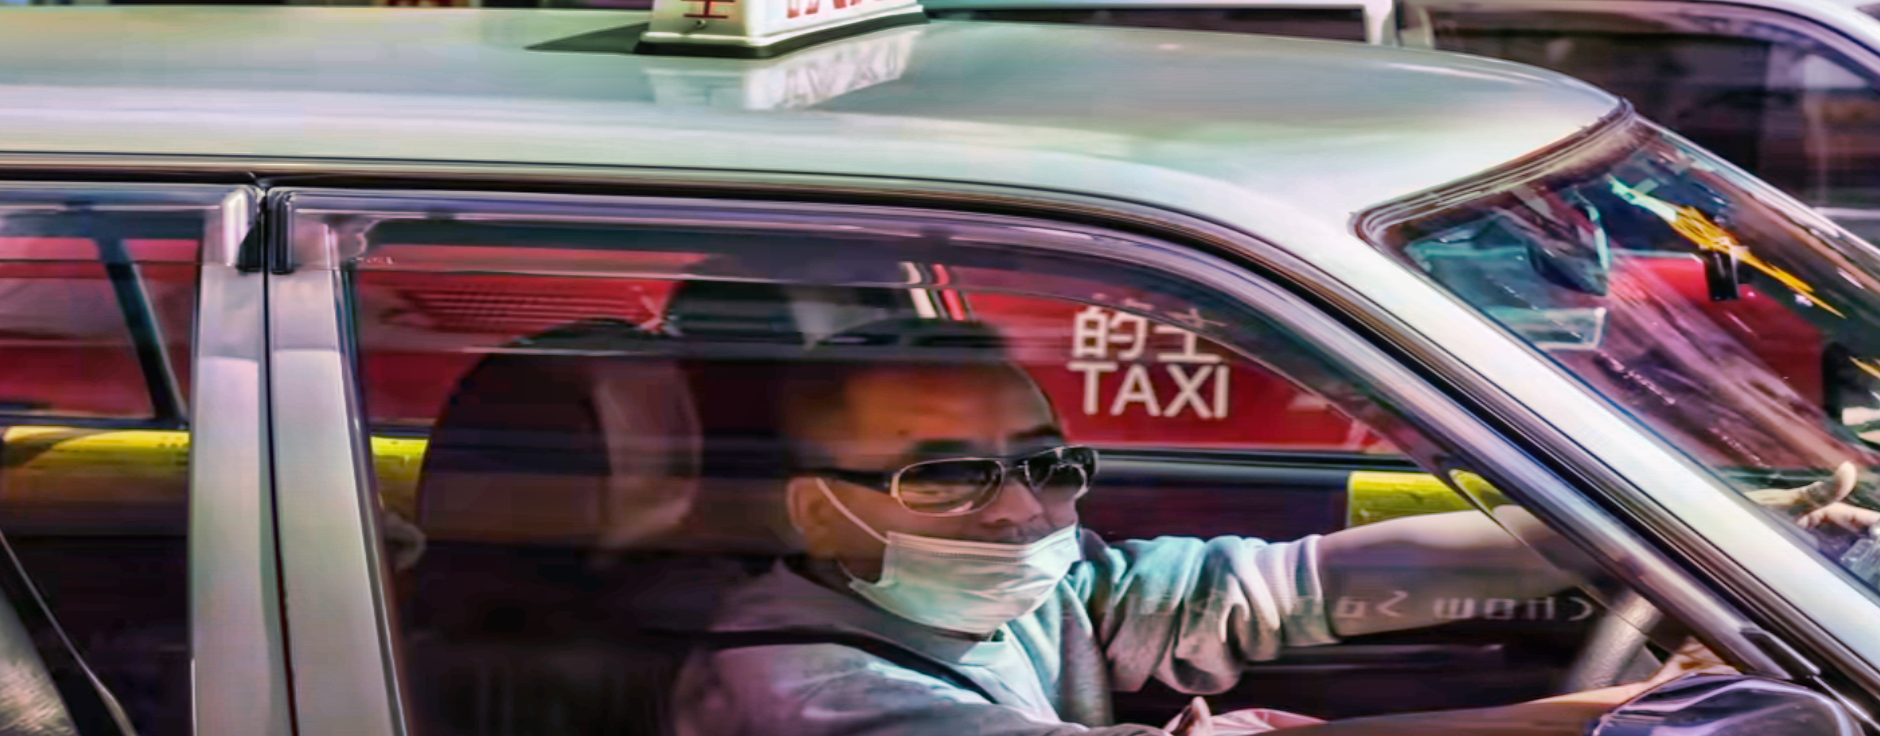mask_weared_incorrect: (749, 322, 1091, 639)
